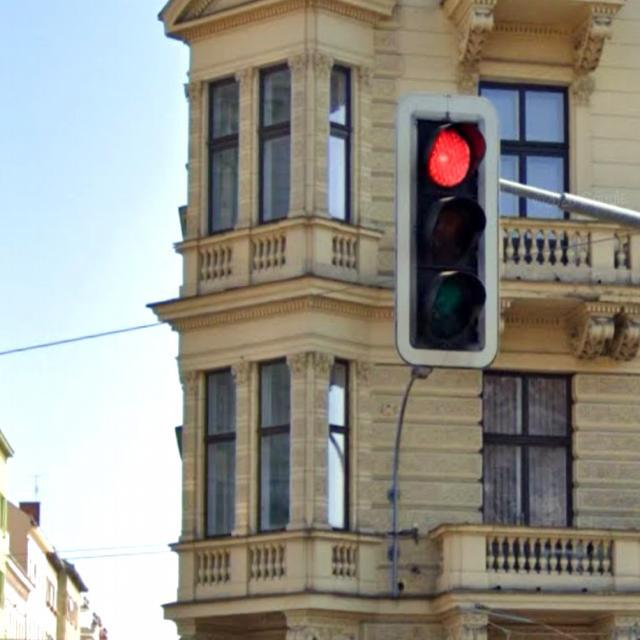red_light: (398, 95, 499, 367)
